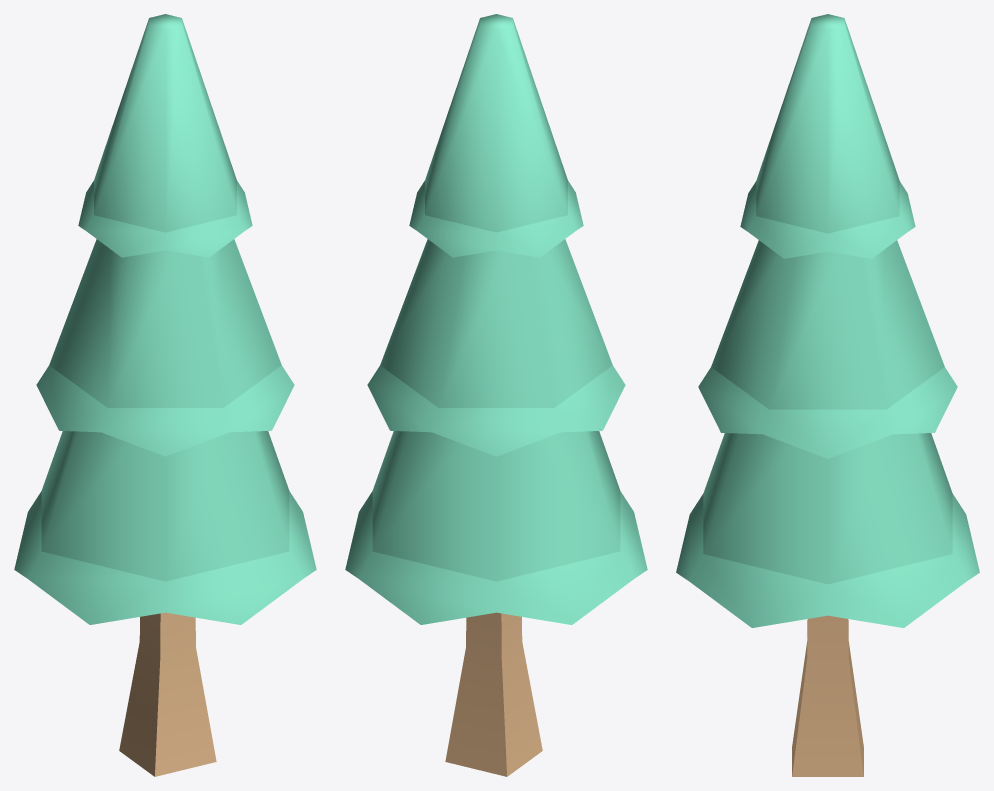
Rendered from tree.glb.
The picture shows the model from 3 angles, left to right: view 1: azimuth 30°, elevation 25°; view 2: azimuth 150°, elevation 25°; view 3: azimuth 270°, elevation 25°; orthographic projection.
Visible parts, largest first — view 1: tree; view 2: tree; view 3: tree.
Boxes of the visible parts, x1,y1,x2,y2 form: tree: (14,14,316,776); tree: (345,14,647,776); tree: (676,14,979,776).
Size of the model in its own units: 0.5529 by 1.41 by 0.5262.
